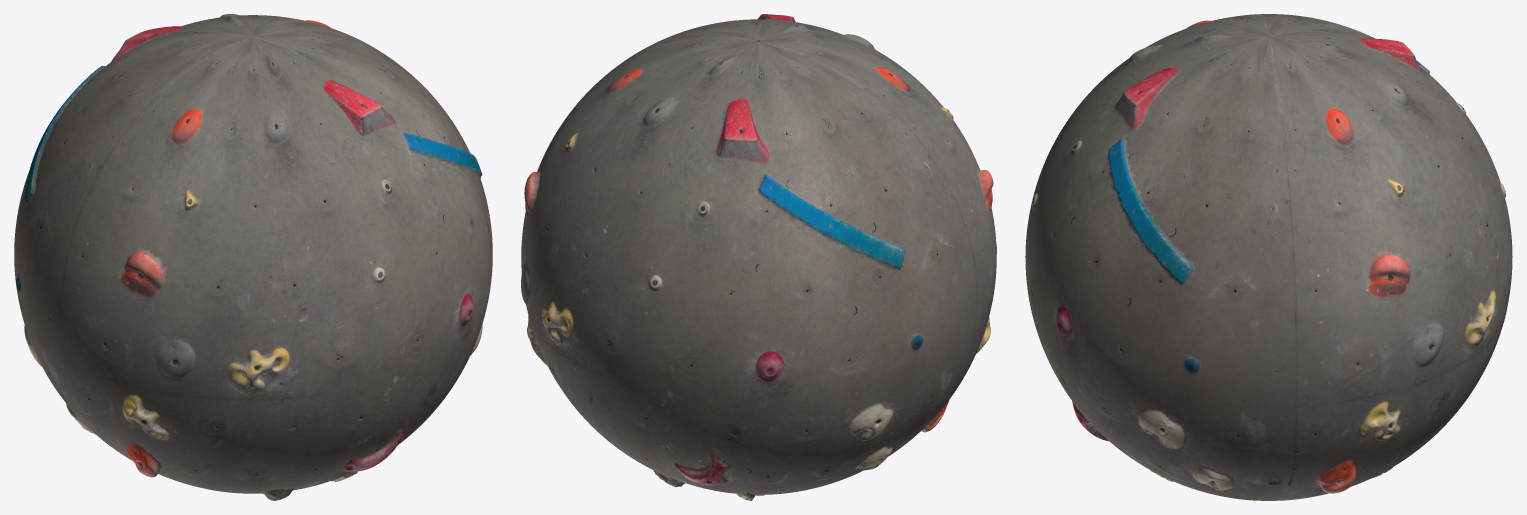
The model's file is climbing_wall_02_1k.gltf.
3 renders of one model, left to right at view 1: azimuth 30°, elevation 25°; view 2: azimuth 150°, elevation 25°; view 3: azimuth 270°, elevation 25°, orthographic. The views are drawn at different scales.
Visible parts, largest first — view 1: sphere_gltf; view 2: sphere_gltf; view 3: sphere_gltf.
Boxes of the visible parts, x1,y1,x2,y2 form: sphere_gltf: (14,14,492,500); sphere_gltf: (521,14,996,500); sphere_gltf: (1025,14,1512,500).
Size of the model in its own units: 1.86 by 1.89 by 1.86.
1 material, 1 textured.
